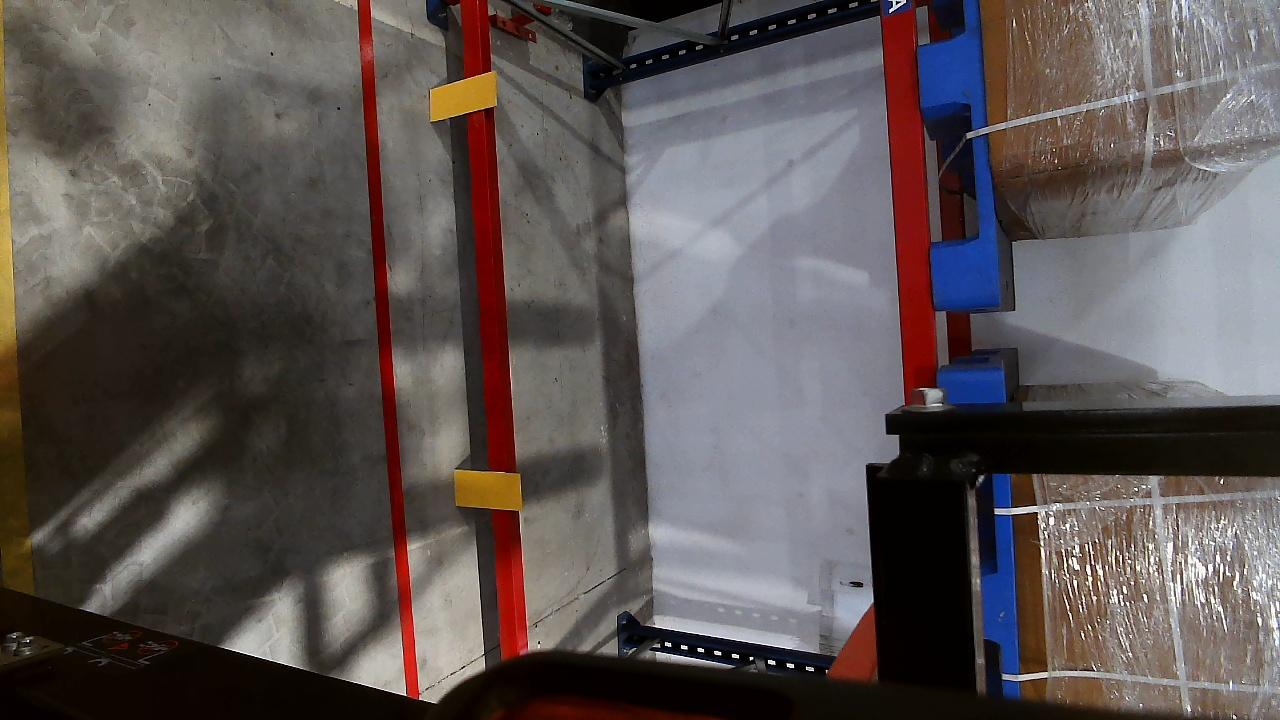h_rack: (458, 1, 532, 659), (879, 0, 937, 405)
orange_strip: (428, 72, 498, 121), (453, 470, 522, 510)
red_line: (366, 1, 417, 699)
small_pallet: (915, 1, 1006, 304)
yellow_line: (0, 86, 34, 595)
